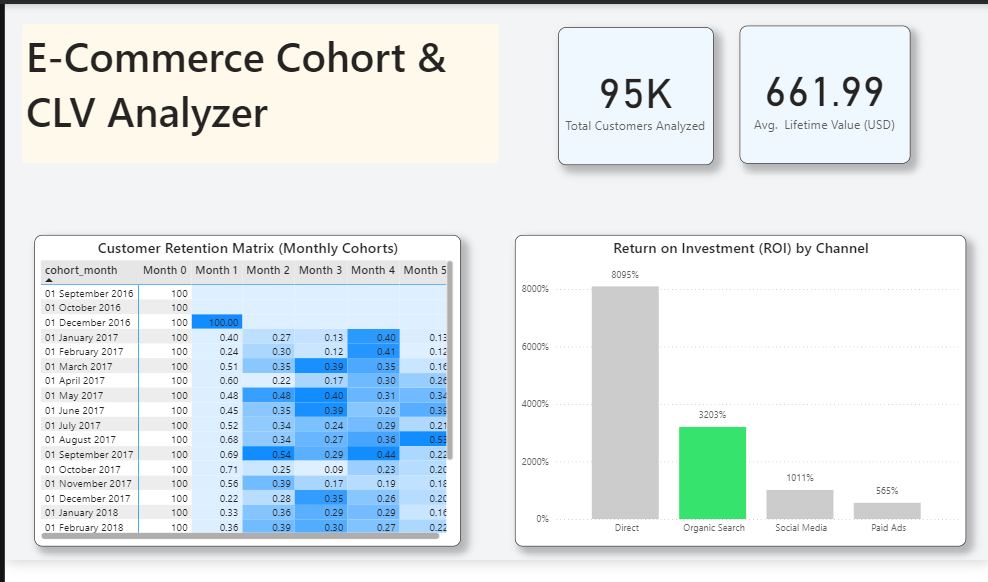

The dashboard page shown, as its layout file describes it:
{"tool":"powerbi","page":{"name":"Page 1","canvas":[1280,720],"ordinal":0},"visuals":[{"type":"pivotTable","fields":{"Rows":["cohort_retention_percentages.cohort_month"],"Values":["Sum(cohort_retention_percentages.0)","Sum(cohort_retention_percentages.1)","Sum(cohort_retention_percentages.2)","Sum(cohort_retention_percentages.3)","Sum(cohort_retention_percentages.4)","Sum(cohort_retention_percentages.5)","Sum(cohort_retention_percentages.6)"]},"box":[0,206,618,496],"z":0},{"type":"lineClusteredColumnComboChart","title":"Return on Investment (ROI) by Channel","fields":{"Category":["channel_roi_summary.acquisition_channel"],"Y":["Sum(channel_roi_summary.average_roi)"]},"box":[660,300,584,386],"z":1},{"type":"card","fields":{"Values":["Sum(channel_roi_summary.total_customers)"]},"box":[718,46,200,180],"z":2},{"type":"card","fields":{"Values":["Sum(channel_roi_summary.average_clv)"]},"box":[952,62,222,180],"z":3},{"type":"textbox","box":[22,26,618,180],"z":4}]}

Visuals, with their boxes on the page's 1280x720 design canvas (x1, y1, x2, y2). These are canvas units, not pixel positions in the 988x582 screenshot, which may show the page scaled, cropped or inside an application window:
pivotTable - cohort_retention_percentages.cohort_month x Sum(cohort_retention_percentages.0): (0,206,618,702)
"Return on Investment (ROI) by Channel" lineClusteredColumnComboChart: (660,300,1244,686)
card - Sum(channel_roi_summary.total_customers): (718,46,918,226)
card - Sum(channel_roi_summary.average_clv): (952,62,1174,242)
textbox: (22,26,640,206)
